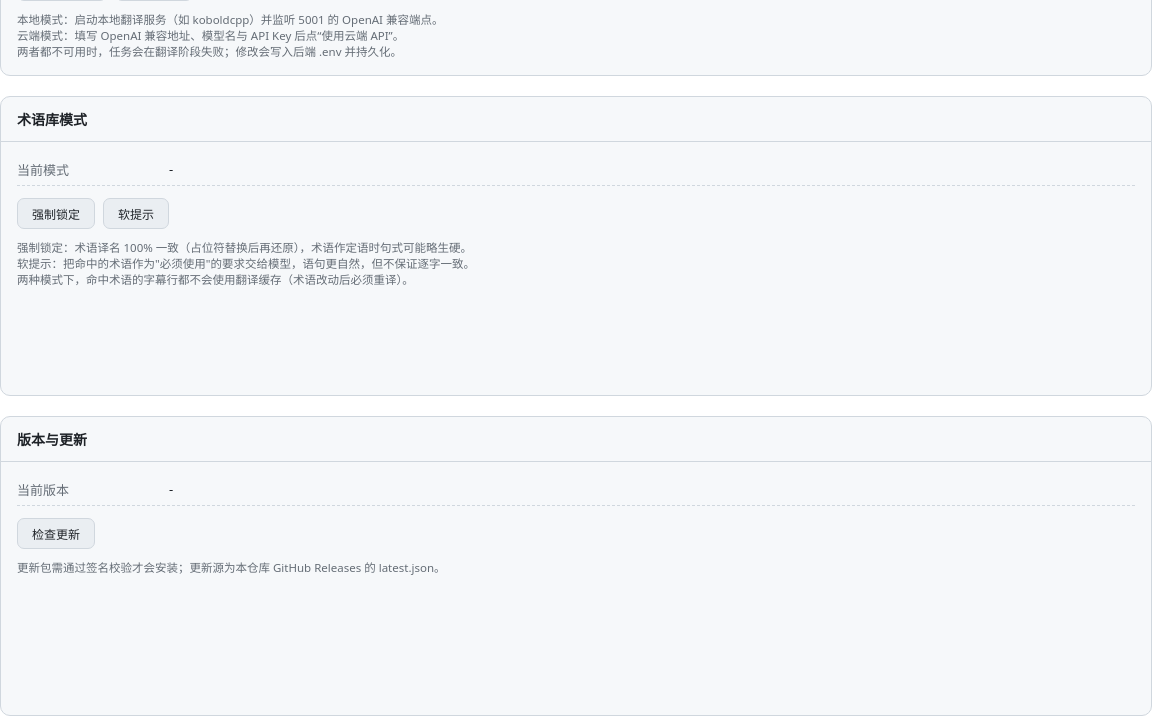
SettingsPage 版本与更新 › 检查失败时给出失败提示而不是崩溃
(page scrolled)
Click the button "检查更新" at (56, 534), box [17,518,95,549]
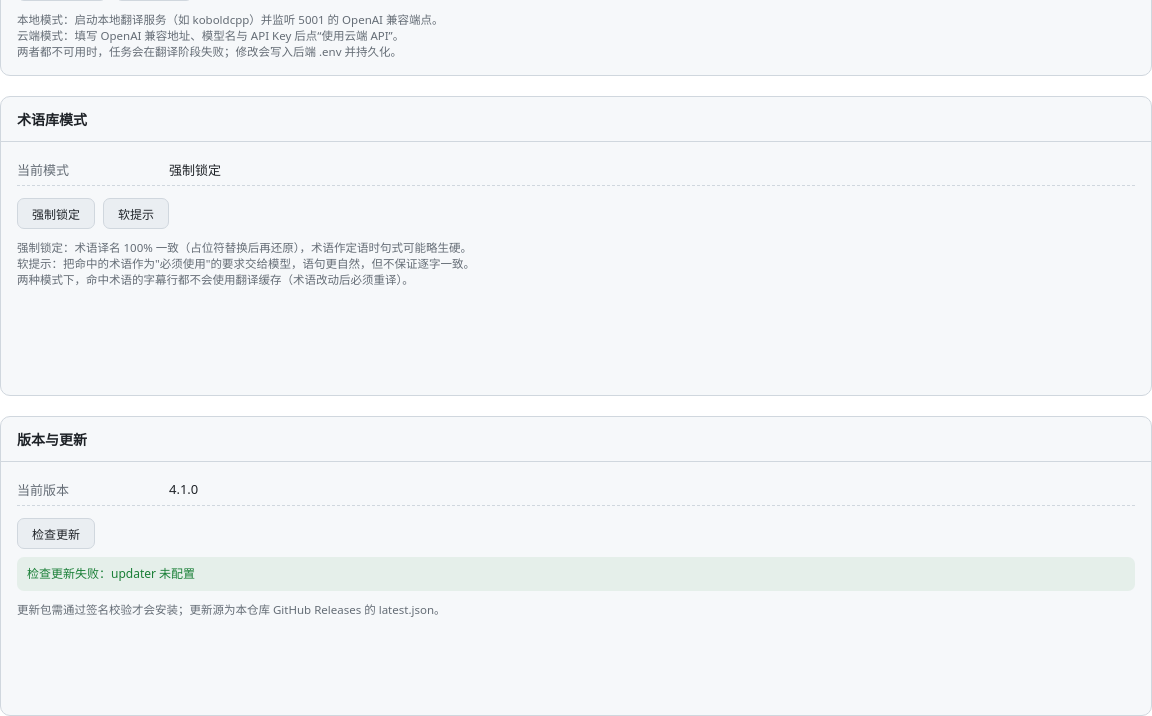
Now the text "检查更新失败：updater 未配置" is shown, box [17,557,1135,591]
